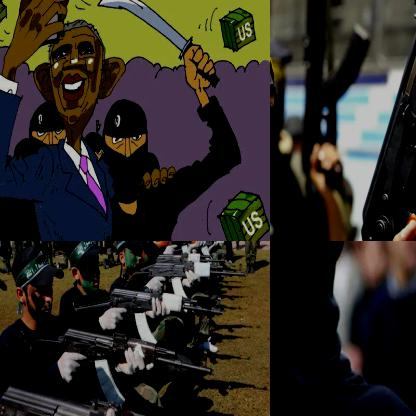knife: (96, 0, 220, 88)
rifle: (18, 325, 215, 415), (344, 0, 415, 240), (70, 288, 227, 350), (133, 262, 247, 292)
